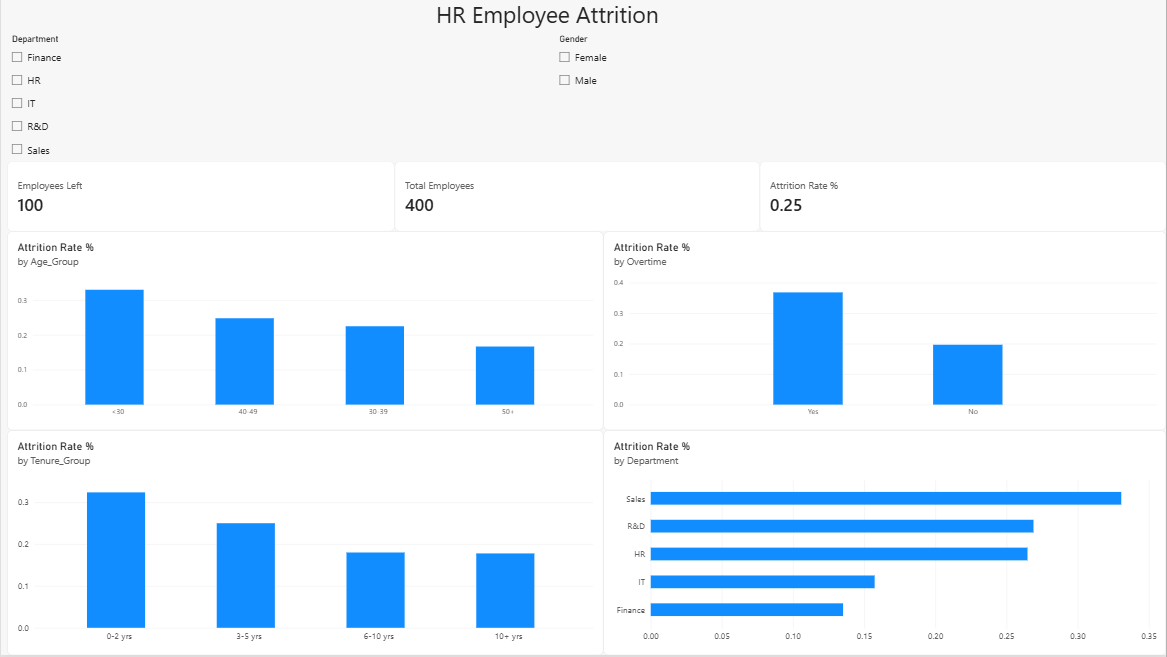

This screenshot's page, from the dashboard's own definition file:
{"tool":"powerbi","page":{"name":"Page 1","canvas":[1920,1080],"ordinal":0},"visuals":[{"type":"cardVisual","fields":{"Data":["HR_Attrition_Cleaned.Total Employees"]},"box":[648.4,267.6,601,115.3],"z":0},{"type":"cardVisual","fields":{"Data":["HR_Attrition_Cleaned.Employees Left"]},"box":[10.3,267.6,638.1,115.3],"z":1},{"type":"cardVisual","fields":{"Data":["HR_Attrition_Cleaned.Attrition Rate %"]},"box":[1249.4,267.6,671,115.3],"z":2},{"type":"textbox","box":[716.3,0,389,57.6],"z":3},{"type":"clusteredBarChart","fields":{"Category":["HR_Attrition_Cleaned.Department"],"Y":["HR_Attrition_Cleaned.Attrition Rate %"]},"box":[992.1,710.1,928.3,370.5],"z":4},{"type":"columnChart","fields":{"Category":["HR_Attrition_Cleaned.Overtime"],"Y":["HR_Attrition_Cleaned.Attrition Rate %"]},"box":[992.1,382.8,928.3,327.3],"z":5},{"type":"columnChart","fields":{"Category":["HR_Attrition_Cleaned.Tenure_Group"],"Y":["HR_Attrition_Cleaned.Attrition Rate %"]},"box":[10.3,710.1,981.8,370.5],"z":6},{"type":"columnChart","fields":{"Category":["HR_Attrition_Cleaned.Age_Group"],"Y":["HR_Attrition_Cleaned.Attrition Rate %"]},"box":[10.3,382.8,981.8,327.3],"z":7},{"type":"slicer","fields":{"Values":["HR_Attrition_Cleaned.Department"]},"box":[10.3,57.6,874.8,209.9],"z":8},{"type":"slicer","fields":{"Values":["HR_Attrition_Cleaned.Gender"]},"box":[911.8,57.6,1008.6,209.9],"z":9}]}

Visuals, with their boxes in screenshot pixels (x1, y1, x2, y2), scaled from the page's 1920x1080 canvas onto the 1167x657 screenshot:
cardVisual - HR_Attrition_Cleaned.Total Employees: Rect(394, 163, 759, 233)
cardVisual - HR_Attrition_Cleaned.Employees Left: Rect(6, 163, 394, 233)
cardVisual - HR_Attrition_Cleaned.Attrition Rate %: Rect(759, 163, 1166, 233)
textbox: Rect(435, 0, 672, 35)
clusteredBarChart - HR_Attrition_Cleaned.Department x HR_Attrition_Cleaned.Attrition Rate %: Rect(603, 432, 1166, 656)
columnChart - HR_Attrition_Cleaned.Overtime x HR_Attrition_Cleaned.Attrition Rate %: Rect(603, 233, 1166, 432)
columnChart - HR_Attrition_Cleaned.Tenure_Group x HR_Attrition_Cleaned.Attrition Rate %: Rect(6, 432, 603, 656)
columnChart - HR_Attrition_Cleaned.Age_Group x HR_Attrition_Cleaned.Attrition Rate %: Rect(6, 233, 603, 432)
slicer - HR_Attrition_Cleaned.Department: Rect(6, 35, 538, 163)
slicer - HR_Attrition_Cleaned.Gender: Rect(554, 35, 1166, 163)
